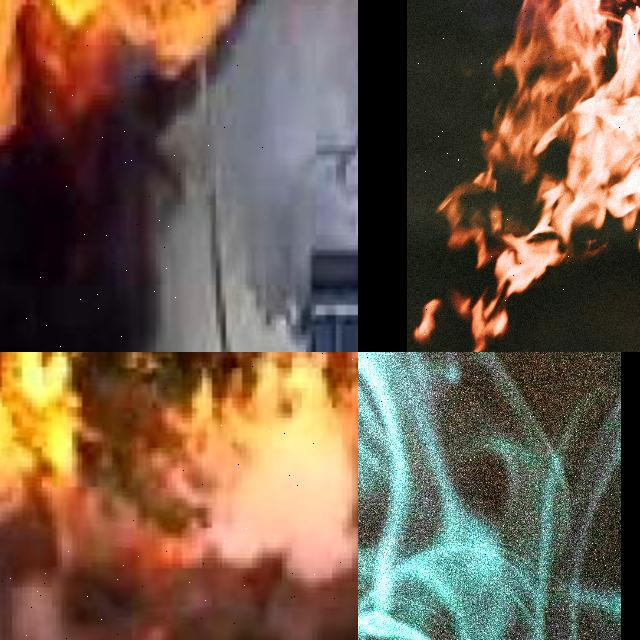fire: (418, 0, 640, 352), (122, 352, 358, 580)
smoke: (358, 352, 620, 640), (0, 92, 184, 352)
